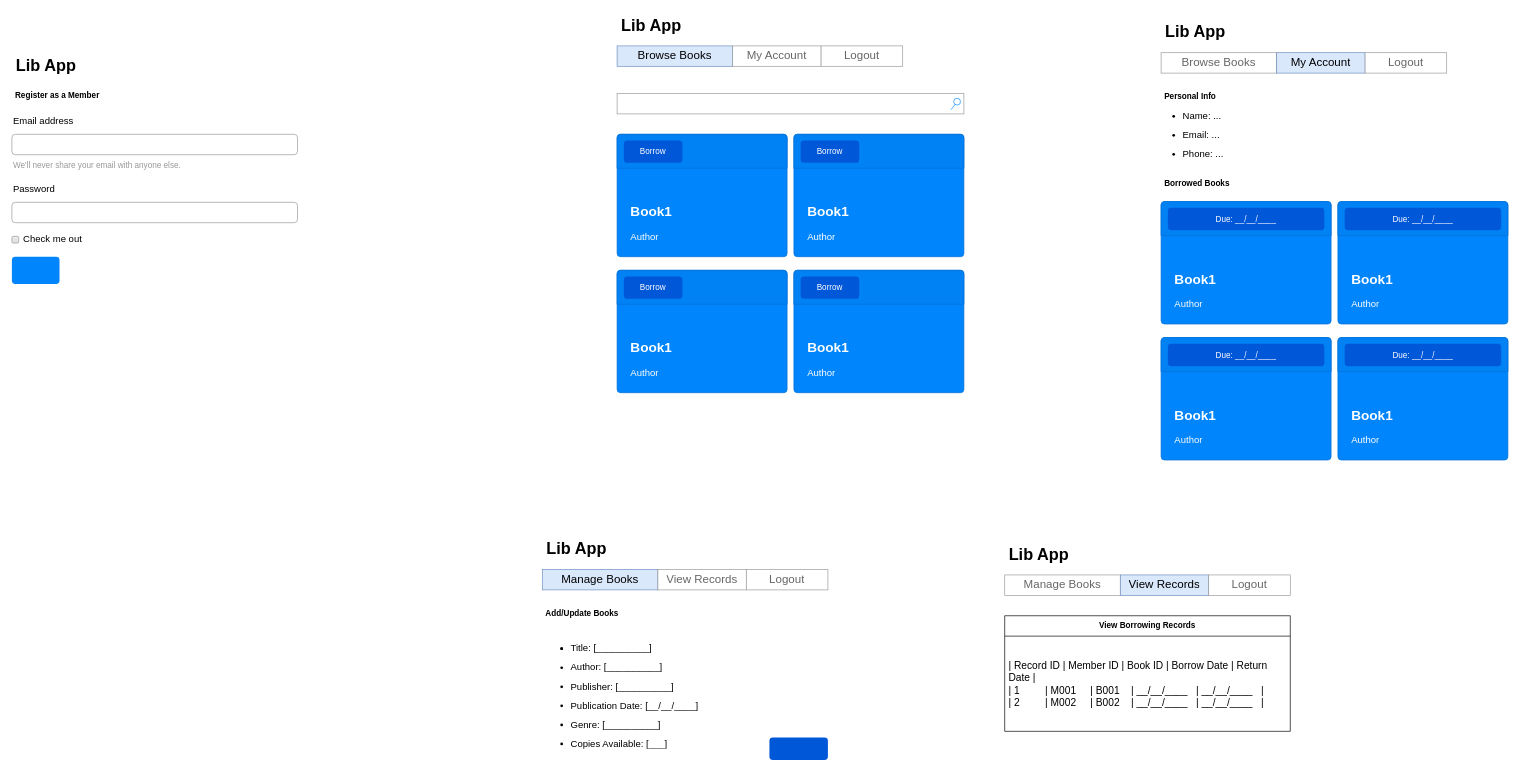
Some shapes in this 1520 by 771 pixel diagram are drawn without their labels. The centre of each missing label's shape, as x and y in pixels:
"Add/Update" goes at (x=798, y=748).
"Search Books..." goes at (x=790, y=103).
"Sign Up" goes at (x=35, y=270).
